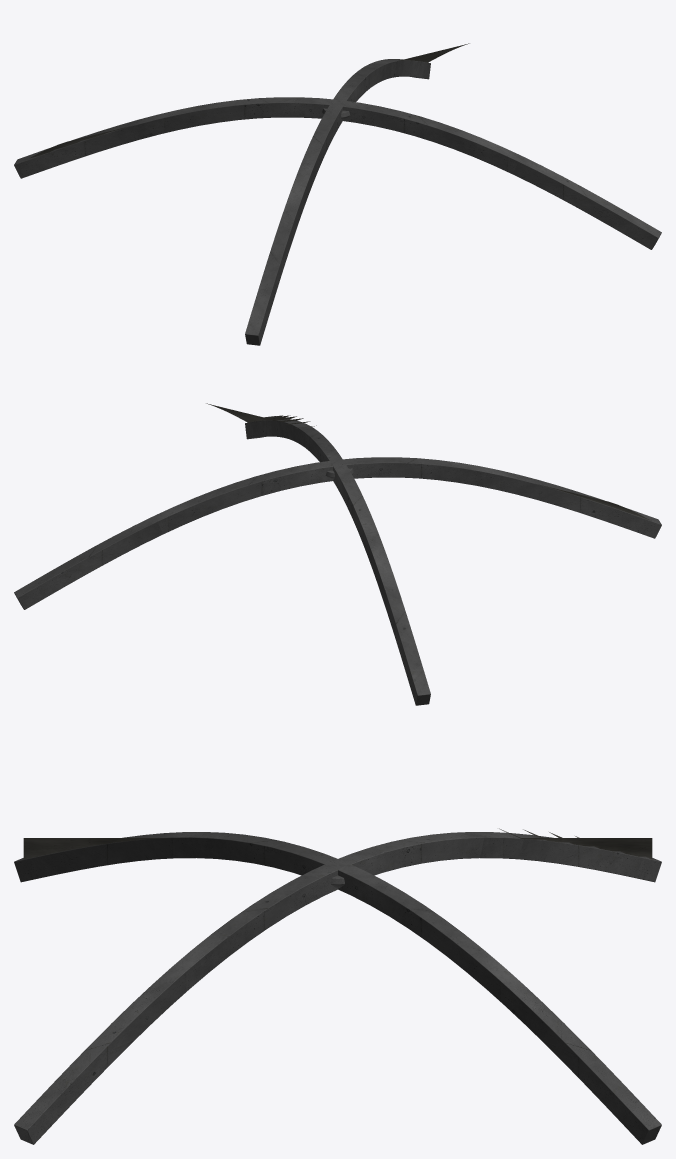
Rendered from Ceiling_Vault.gltf.
3 renders of one model, top to bottom at view 1: azimuth 30°, elevation 25°; view 2: azimuth 150°, elevation 25°; view 3: azimuth 270°, elevation 25°, orthographic. The views are drawn at different scales.
Visible parts, largest first — view 1: Ceiling_Vault_Ribs, Ceiling_Vault_Shell; view 2: Ceiling_Vault_Ribs, Ceiling_Vault_Shell; view 3: Ceiling_Vault_Ribs, Ceiling_Vault_Shell.
Part boxes in pixels (box(x1,y1,x2,y2)): Ceiling_Vault_Ribs: box(14, 59, 661, 345); Ceiling_Vault_Shell: box(30, 43, 469, 157); Ceiling_Vault_Ribs: box(14, 419, 661, 705); Ceiling_Vault_Shell: box(206, 403, 650, 520); Ceiling_Vault_Ribs: box(14, 832, 661, 1144); Ceiling_Vault_Shell: box(23, 828, 652, 859).
Size of the model in its own units: 4.12 by 1.03 by 4.12.
2 materials, 2 textured.
